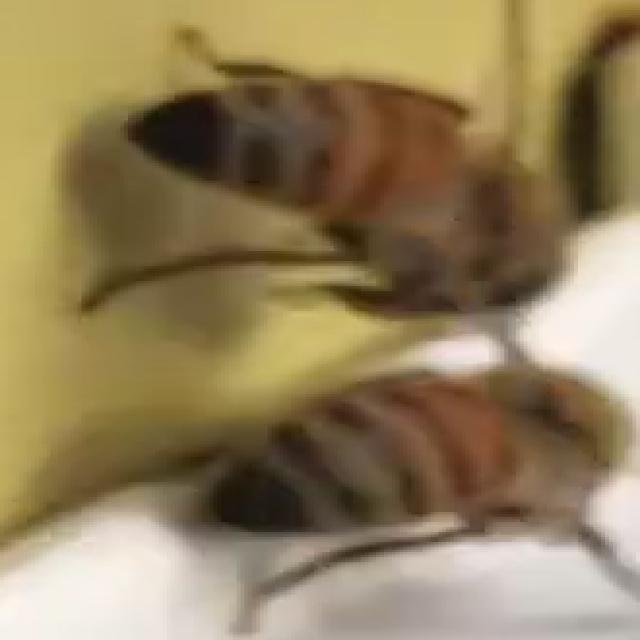honeybee: (121, 38, 636, 336), (186, 342, 640, 592)
